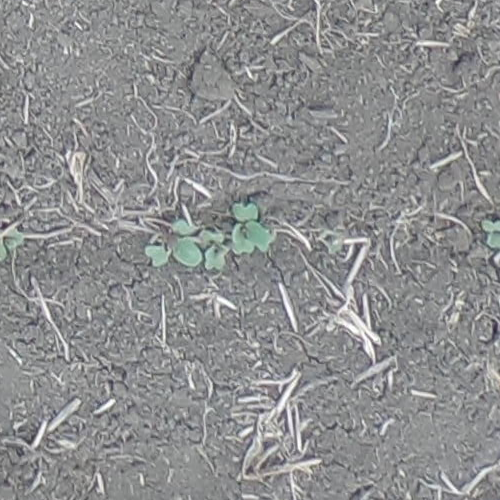plant: (144, 219, 200, 267), (233, 203, 270, 257), (200, 231, 229, 269), (0, 226, 24, 263), (480, 219, 499, 246)
